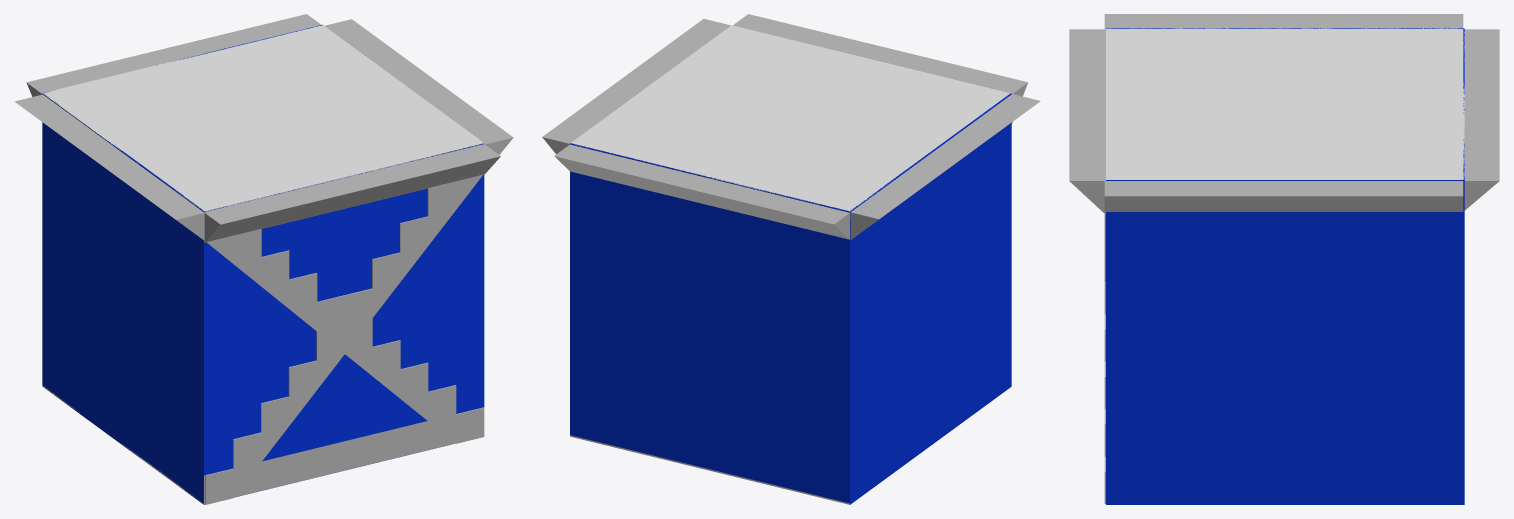
Rendered from Kyle Title Template Title Texture Test.fbx.
3 views of the same model, side by side, from view 1: azimuth 30°, elevation 25°; view 2: azimuth 150°, elevation 25°; view 3: azimuth 270°, elevation 25° (orthographic). The views are drawn at different scales.
Visible parts, largest first — view 1: Right Wall, Roof, Front Wall, Stairs 2, Stairs 3, Front Wall Side Stairs 1, Stairs 1, Front Wall Side Stairs 2, Stairs 4, Right Wall Side Stairs 1, Right Wall Side Stairs 2; view 2: Roof, Front Wall, Left Wall Side Stairs 1, Left Wall Side Stairs 2, Left Wall, Stairs 1, Stairs 2, Stairs 3, Stairs 4, Floor; view 3: Back Wall, Roof, Back Wall Side Stairs 1, Back Wall Side Stairs 2, Stairs 3, Stairs 4, Stairs 1, Stairs 2.
Part boxes in pixels (x1,y1,x2,y2): Right Wall: [203, 143, 484, 502]; Roof: [42, 25, 483, 211]; Front Wall: [42, 93, 205, 504]; Stairs 2: [14, 94, 483, 443]; Stairs 3: [205, 19, 513, 504]; Front Wall Side Stairs 1: [44, 229, 203, 502]; Stairs 1: [26, 14, 484, 504]; Front Wall Side Stairs 2: [42, 125, 202, 503]; Stairs 4: [204, 144, 500, 242]; Right Wall Side Stairs 1: [203, 240, 350, 501]; Right Wall Side Stairs 2: [265, 175, 484, 460]; Roof: [571, 25, 1009, 219]; Front Wall: [849, 93, 1011, 504]; Left Wall Side Stairs 1: [570, 172, 846, 502]; Left Wall Side Stairs 2: [572, 233, 849, 502]; Left Wall: [570, 143, 849, 503]; Stairs 1: [554, 144, 849, 239]; Stairs 2: [850, 94, 1040, 239]; Stairs 3: [542, 19, 730, 154]; Stairs 4: [733, 14, 1027, 124]; Floor: [570, 435, 849, 504]; Back Wall: [1106, 180, 1464, 504]; Roof: [1106, 28, 1464, 179]; Back Wall Side Stairs 1: [1107, 180, 1464, 504]; Back Wall Side Stairs 2: [1106, 212, 1462, 504]; Stairs 3: [1104, 165, 1463, 281]; Stairs 4: [1069, 29, 1105, 214]; Stairs 1: [1464, 29, 1499, 210]; Stairs 2: [1104, 14, 1463, 503].
Bounding box in the file's own units: 120 × 100 × 120.
